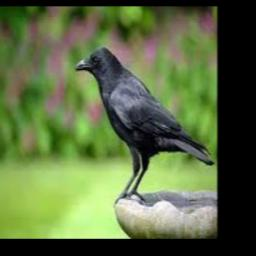Crow: (75, 45, 215, 203)
